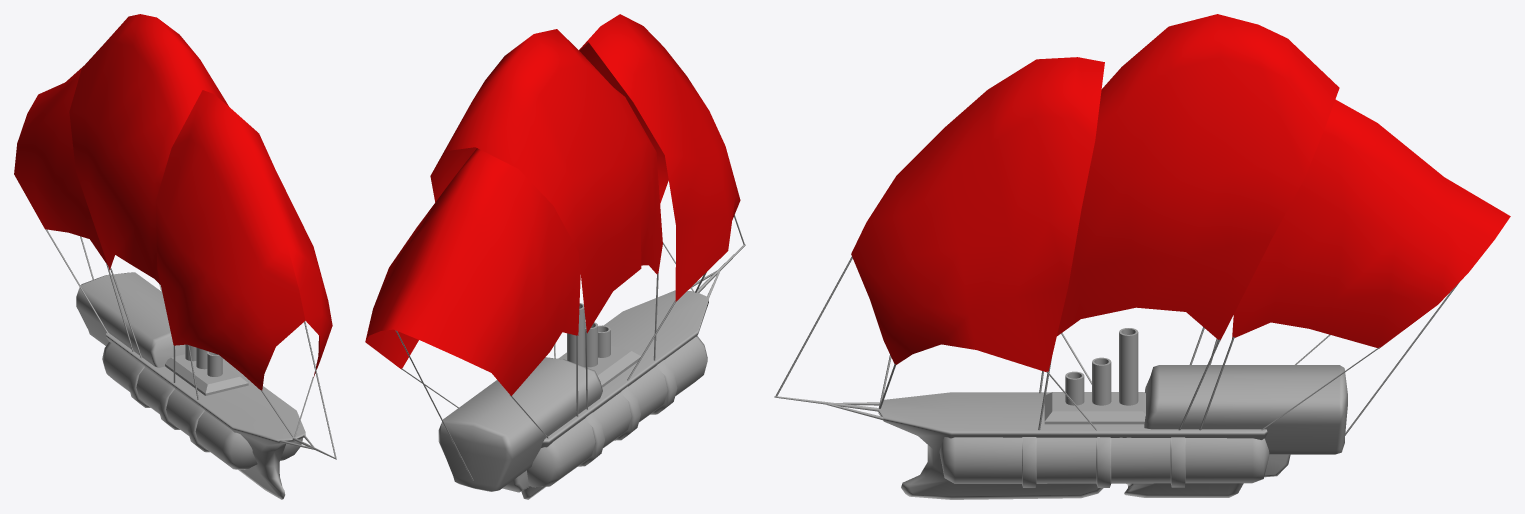
Rendered from ship_mechant_cargo.fbx.
The picture shows the model from 3 angles, left to right: view 1: azimuth 30°, elevation 25°; view 2: azimuth 150°, elevation 25°; view 3: azimuth 270°, elevation 25°; orthographic projection. The views are drawn at different scales.
Parts seen in each view (by area): view 1: pCylinder37, Merchant_hull; view 2: pCylinder37, Merchant_hull; view 3: pCylinder37, Merchant_hull.
Part boxes in pixels (<box>): pCylinder37: <box>14,14,336,458</box>; Merchant_hull: <box>76,272,336,499</box>; pCylinder37: <box>365,14,744,480</box>; Merchant_hull: <box>438,244,745,499</box>; pCylinder37: <box>775,14,1510,435</box>; Merchant_hull: <box>774,328,1347,499</box>.
Size of the model in its own units: 1004 by 2800 by 3847.
